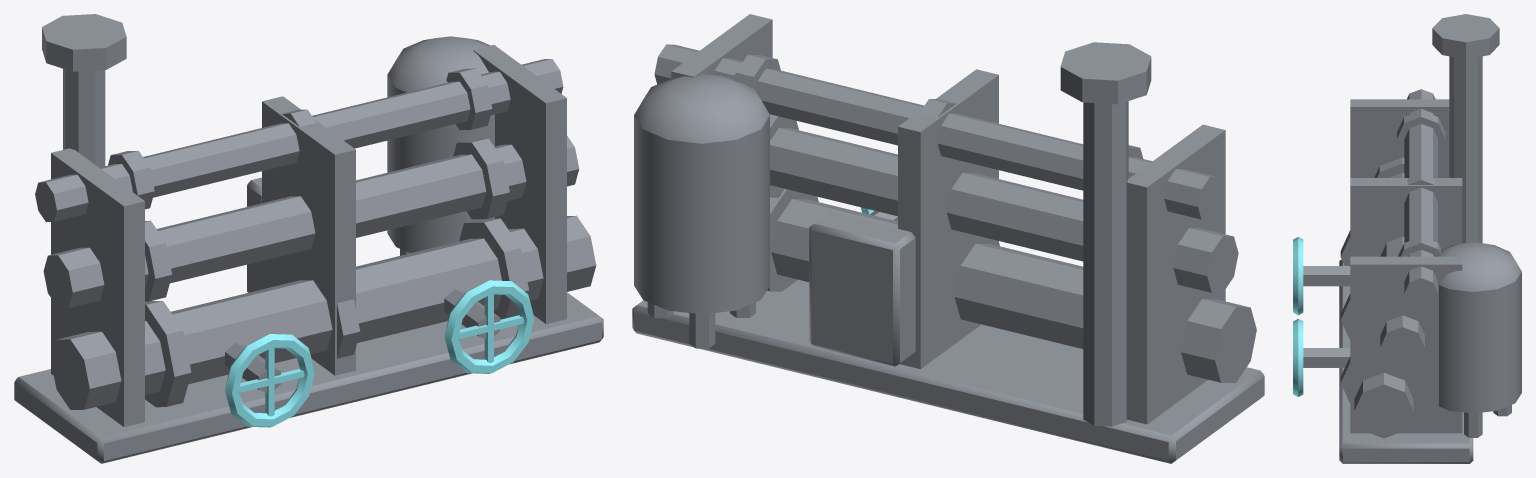
The model's file is CalleTuberias.fbx.
The picture shows the model from 3 angles, left to right: view 1: azimuth 30°, elevation 25°; view 2: azimuth 150°, elevation 25°; view 3: azimuth 270°, elevation 25°; orthographic projection. The views are drawn at different scales.
Parts seen in each view (by area): view 1: CalleTuberias_Base_Metal, CalleTuberias_Base_Luz; view 2: CalleTuberias_Base_Metal; view 3: CalleTuberias_Base_Metal, CalleTuberias_Base_Luz.
Part boxes in pixels (x1,y1,x2,y2): CalleTuberias_Base_Metal: [14, 14, 603, 463]; CalleTuberias_Base_Luz: [225, 280, 533, 427]; CalleTuberias_Base_Metal: [632, 14, 1264, 463]; CalleTuberias_Base_Metal: [1303, 14, 1521, 463]; CalleTuberias_Base_Luz: [1293, 237, 1303, 397].
Size of the model in its own units: 1200 by 810 by 614.
